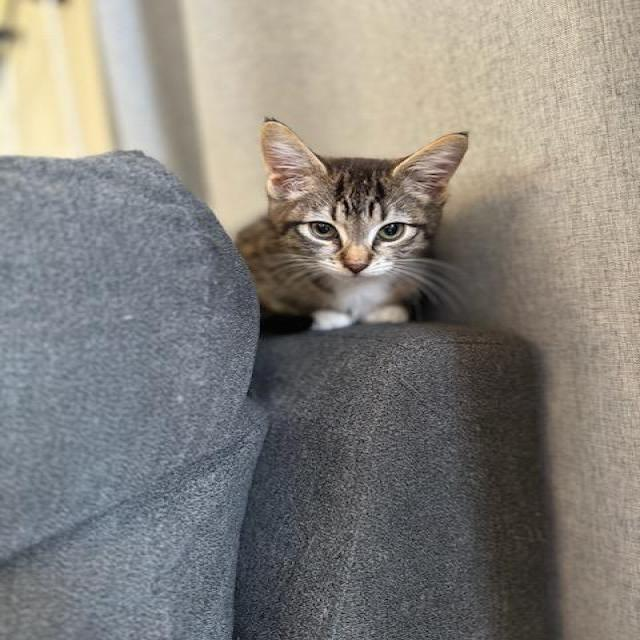american_shorthair_cat: (256, 114, 472, 286)
